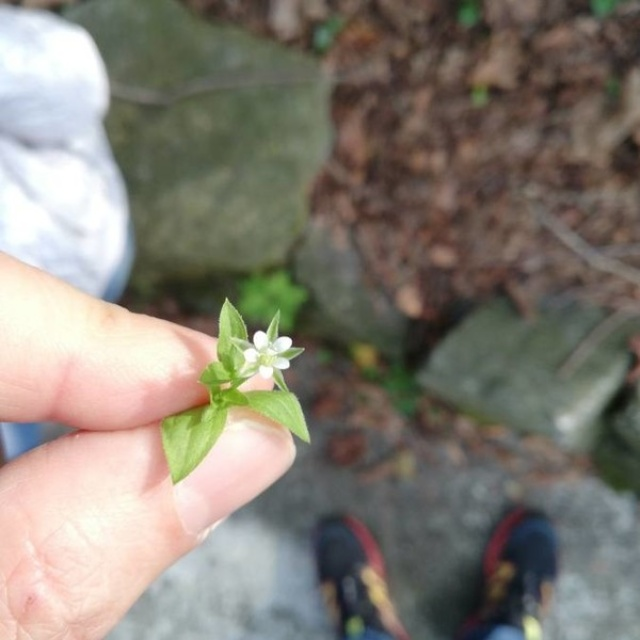obstacle: (154, 294, 325, 483)
